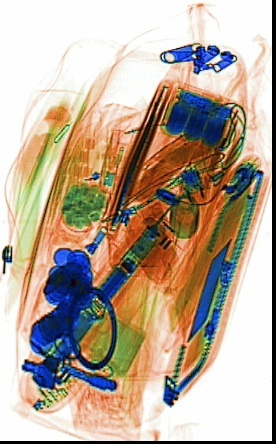powerbank: (158, 80, 240, 150)
